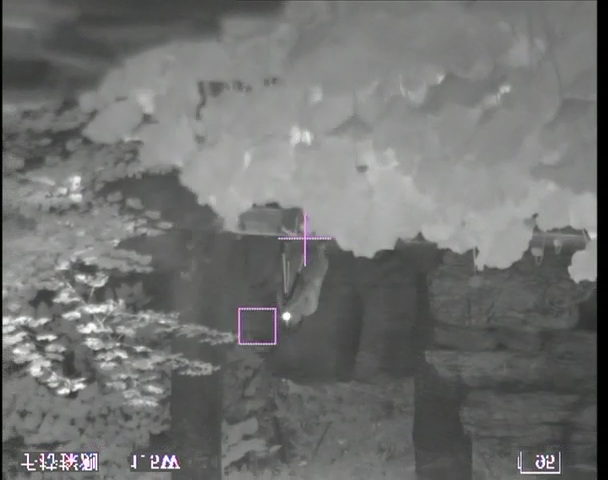my: (280, 310, 291, 321)
